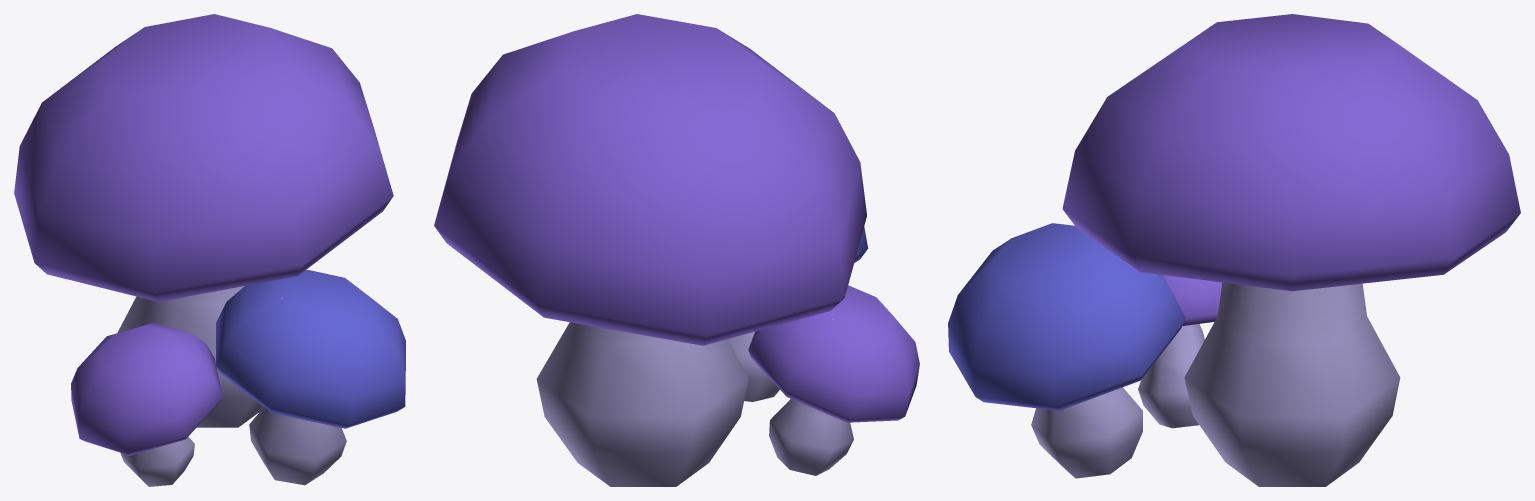
Rendered from Mushrooms1.fbx.
3 views of the same model, side by side, from view 1: azimuth 30°, elevation 25°; view 2: azimuth 150°, elevation 25°; view 3: azimuth 270°, elevation 25° (orthographic). The views are drawn at different scales.
Parts seen in each view (by area): view 1: Circle.008; view 2: Circle.008; view 3: Circle.008.
Part boxes in pixels (box(x1,y1,x2,y2)): Circle.008: box(14, 14, 405, 486); Circle.008: box(434, 14, 919, 486); Circle.008: box(948, 14, 1520, 486).
Bounding box in the file's own units: 0.9214 × 0.9664 × 1.14.
